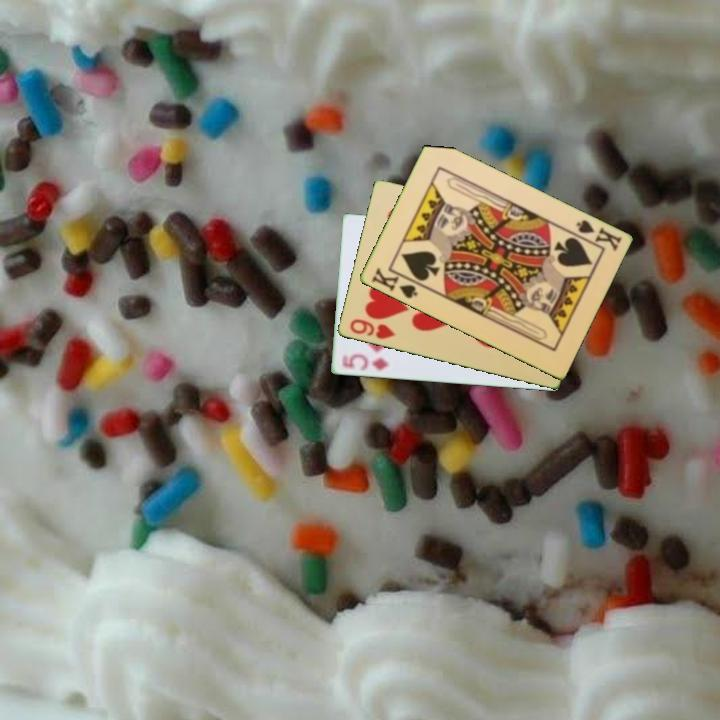5d: (338, 351, 391, 374)
9h: (346, 316, 398, 342)
Ks: (367, 264, 424, 302), (567, 216, 624, 254)
